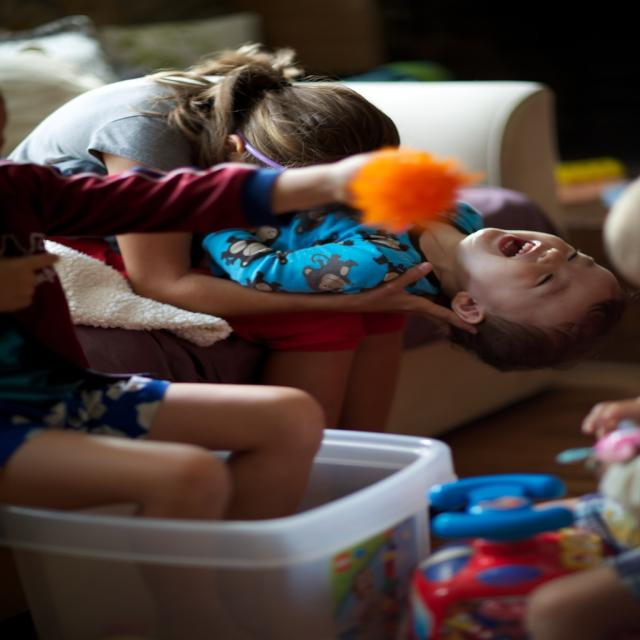Toy: (389, 463, 612, 626), (349, 146, 484, 234), (556, 418, 640, 548)
